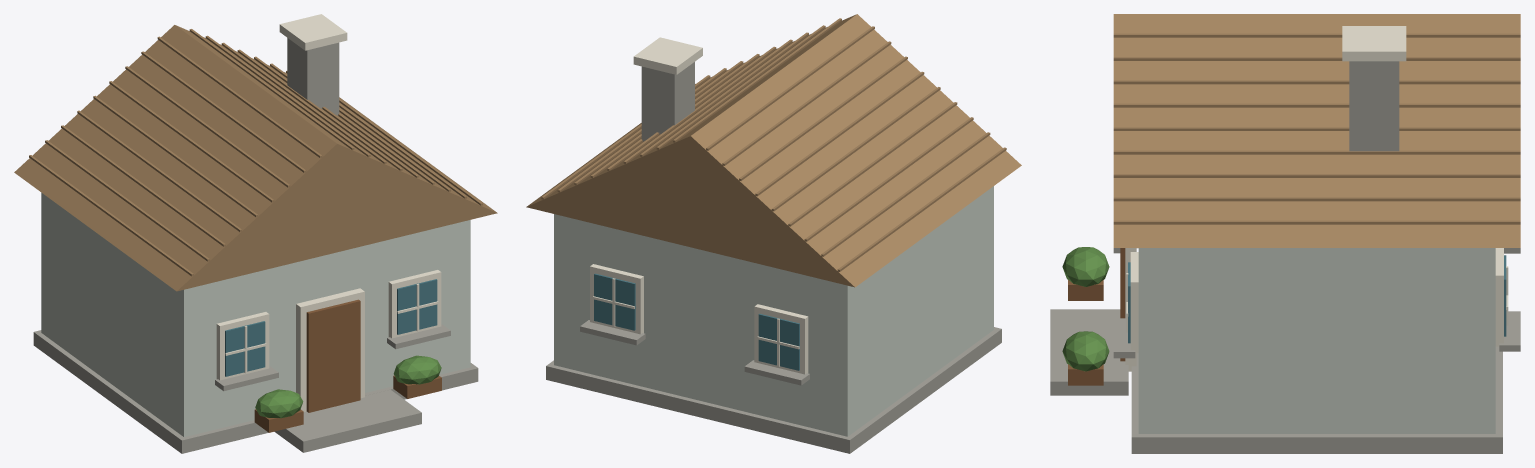
File: cottage-3.glb
3 renders of one model, left to right at view 1: azimuth 30°, elevation 25°; view 2: azimuth 150°, elevation 25°; view 3: azimuth 270°, elevation 25°, orthographic. The views are drawn at different scales.
Parts seen in each view (by area): view 1: cottage-3; view 2: cottage-3; view 3: cottage-3.
Part boxes in pixels (box(x1,y1,x2,y2)): cottage-3: box(14, 14, 497, 453); cottage-3: box(526, 14, 1021, 453); cottage-3: box(1050, 14, 1520, 453).
Bounding box in the file's own units: 6.5 × 5.77 × 6.59.
